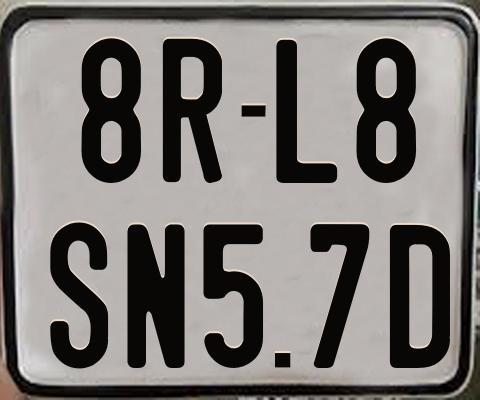5: (202, 224, 265, 368)
7: (310, 221, 371, 371)
8: (356, 35, 417, 186), (78, 38, 139, 187)
D: (387, 225, 452, 373)
L: (274, 40, 341, 189)
N: (127, 224, 188, 372)
R: (161, 39, 226, 183)
S: (48, 220, 111, 371)
